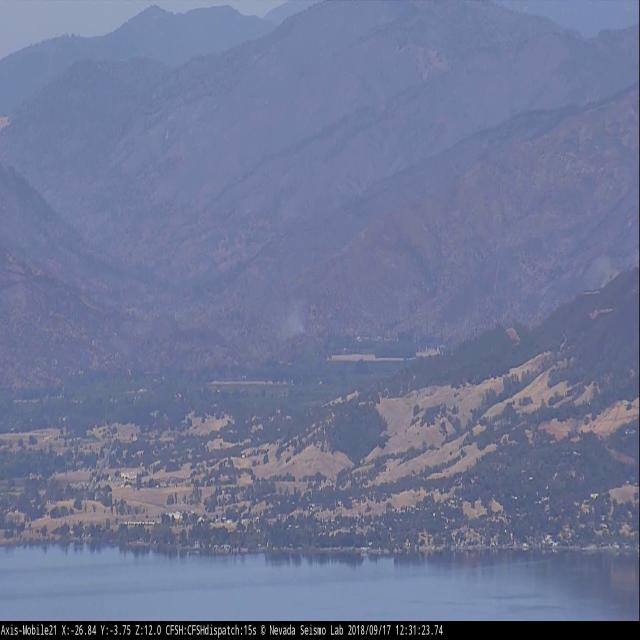smoke: (272, 301, 311, 343)
